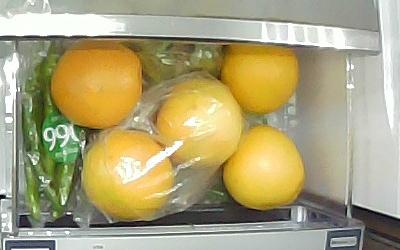grapefruit: (49, 39, 142, 128), (223, 125, 306, 210), (220, 46, 300, 116)
grapefruit_vinyl: (82, 127, 175, 221), (155, 77, 242, 172)
